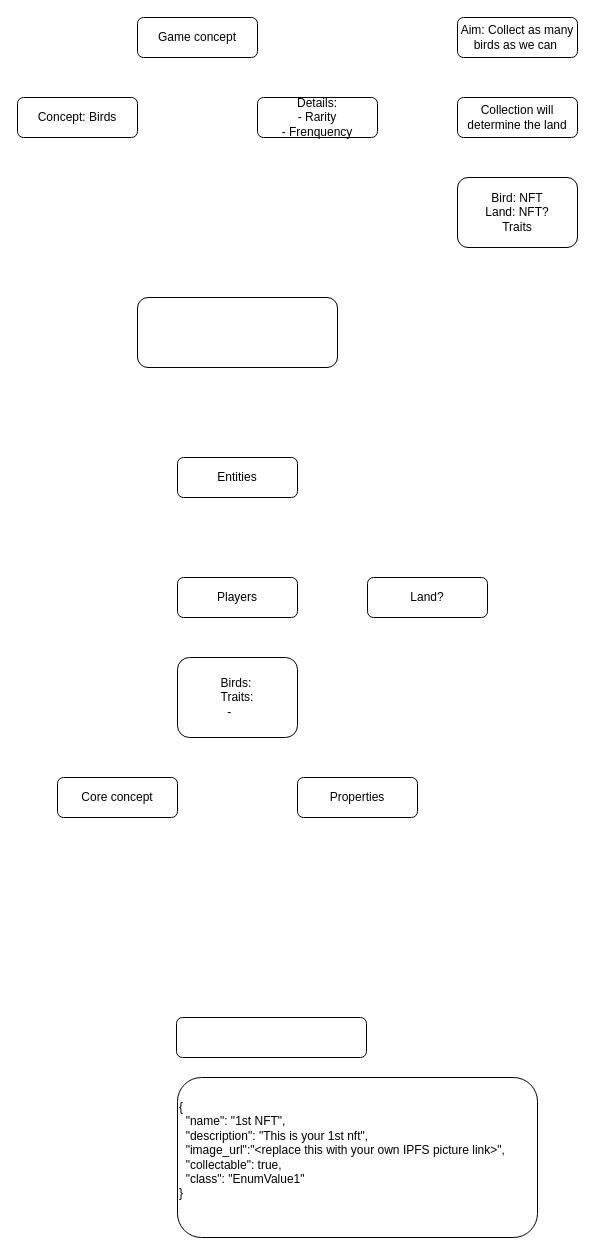
The diagram is 595 pixels wide and 1255 high, and some of its shapes have lost their labels. Each missing label, with the centre of its shape:
Game Steps: 1) Birds are fliying: (237,332)
NFT - metadata - Bird: (271,1037)
